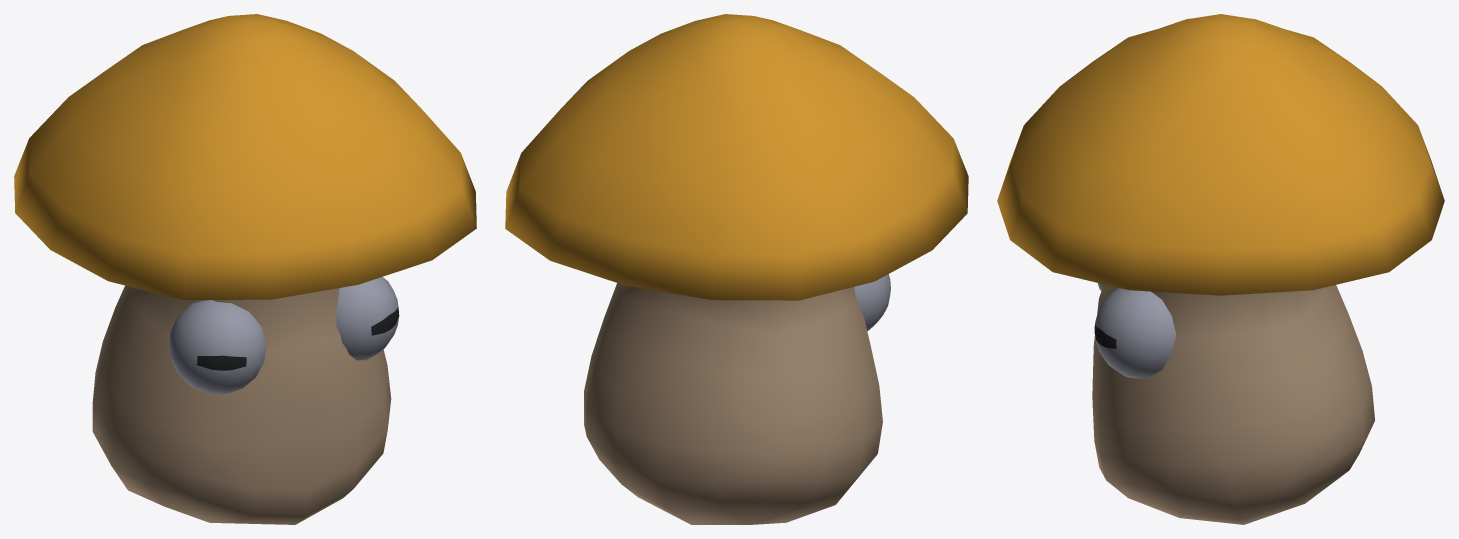
File: Mushnub.glb
The picture shows the model from 3 angles, left to right: view 1: azimuth 30°, elevation 25°; view 2: azimuth 150°, elevation 25°; view 3: azimuth 270°, elevation 25°; orthographic projection.
Parts seen in each view (by area): view 1: SK_Mushnub; view 2: SK_Mushnub; view 3: SK_Mushnub.
Boxes of the visible parts, bbox=[...] form: SK_Mushnub: bbox=[14, 14, 476, 524]; SK_Mushnub: bbox=[505, 14, 968, 524]; SK_Mushnub: bbox=[997, 14, 1444, 524].
Bounding box in the file's own units: 2.75 × 3.3 × 2.75.
Materials: 1 (1 with a texture image).
